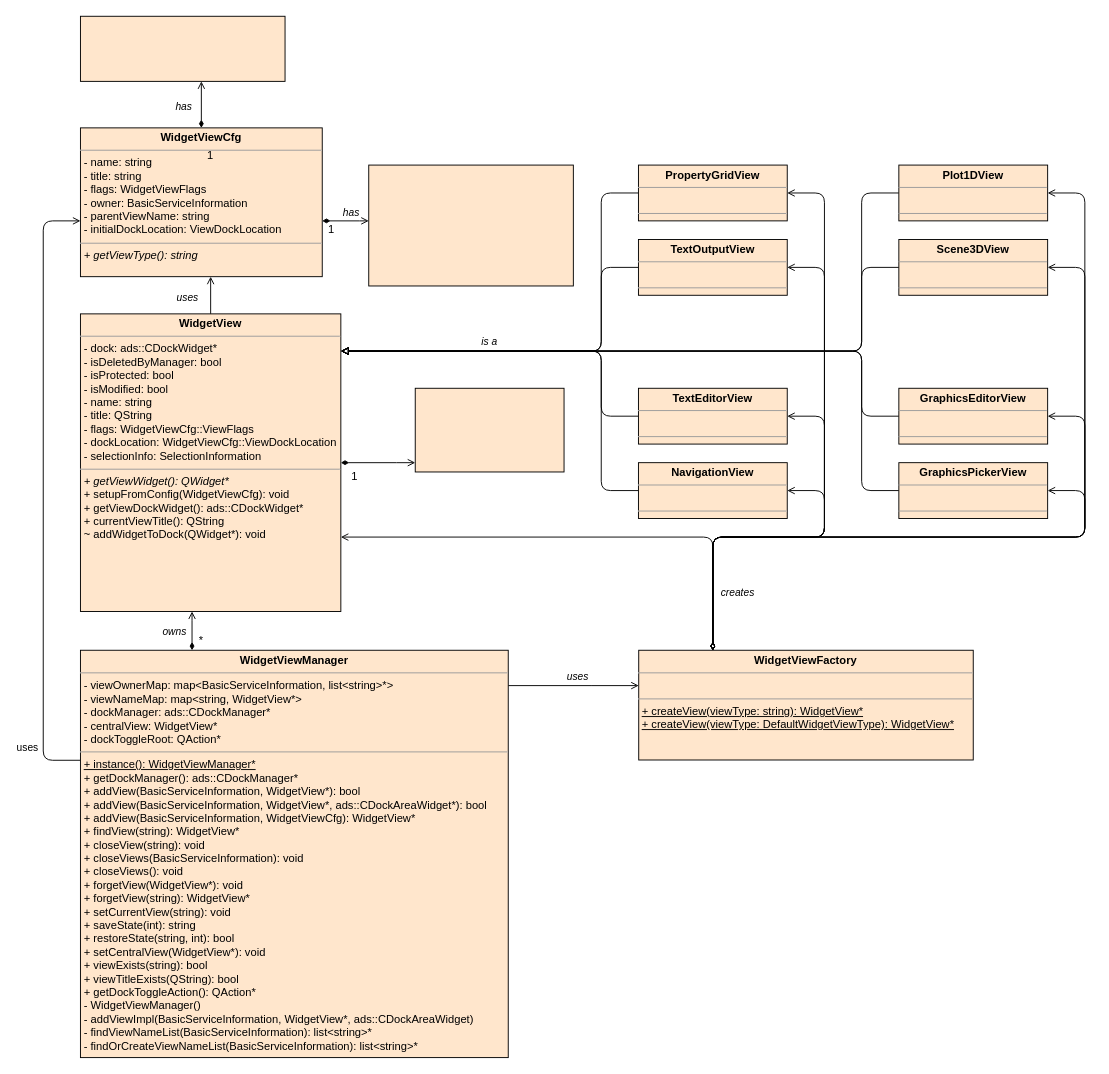
The diagram is 1109 pixels wide and 1074 high, and some of its shapes have lost their labels. The centre of each missing label's shape, as x and y in pixels:
"<<enumeration>> WidgetViewCfg::ViewDockLocation Default Left Top Right Bottom" goes at (470,225).
"<<enumeration>> WidgetViewCfg::WidgetViewFlags ViewIsCloseable" goes at (182,48).
"SelectionInformation - treeItems: UID[*]" goes at (489,429).
